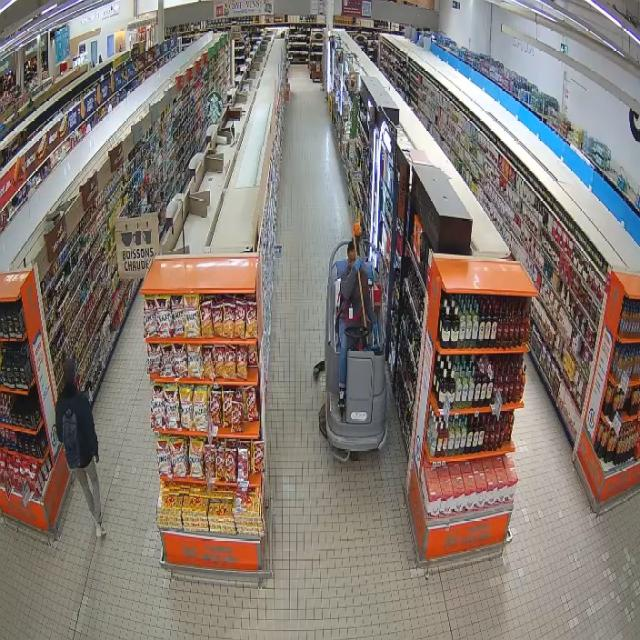bags: (63, 408, 79, 468)
hands: (354, 257, 362, 270), (95, 454, 99, 463)
person: (56, 359, 105, 537), (338, 242, 377, 408)
